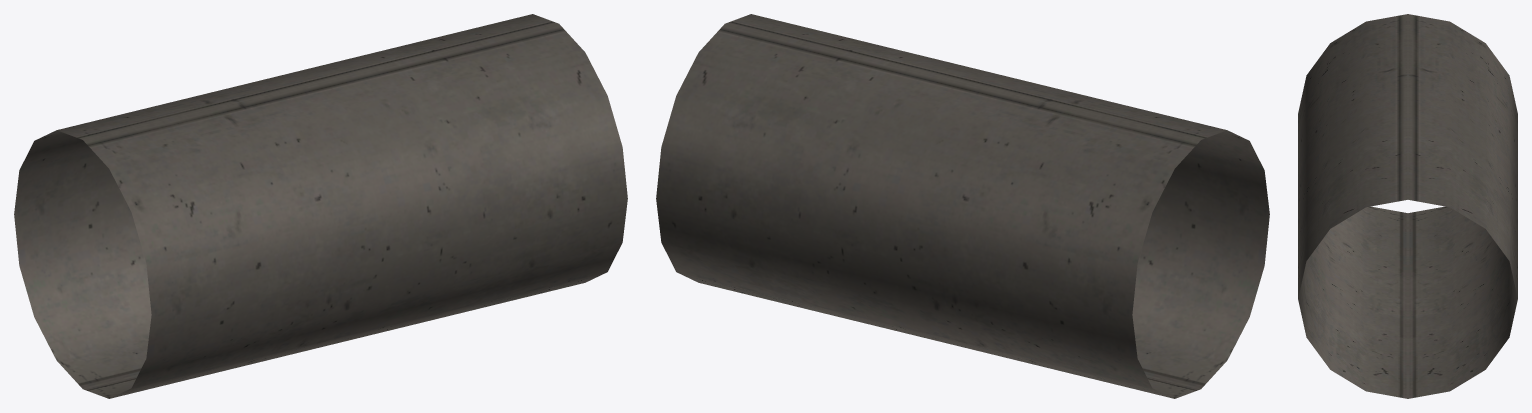
File: com_pipe_8x32_white_clean_lod0.glb
3 views of the same model, side by side, from view 1: azimuth 30°, elevation 25°; view 2: azimuth 150°, elevation 25°; view 3: azimuth 270°, elevation 25° (orthographic). The views are drawn at different scales.
Parts seen in each view (by area): view 1: surf0; view 2: surf0; view 3: surf0.
Boxes of the visible parts, x1,y1,x2,y2 form: surf0: (14,14,627,398); surf0: (656,14,1269,398); surf0: (1298,14,1517,398).
Bounding box in the file's own units: 32 × 16 × 16.
